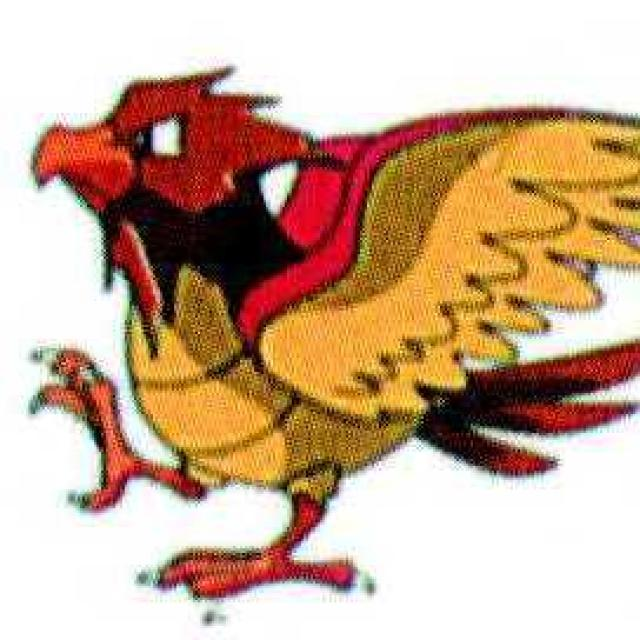Spearow: (67, 77, 502, 536)
